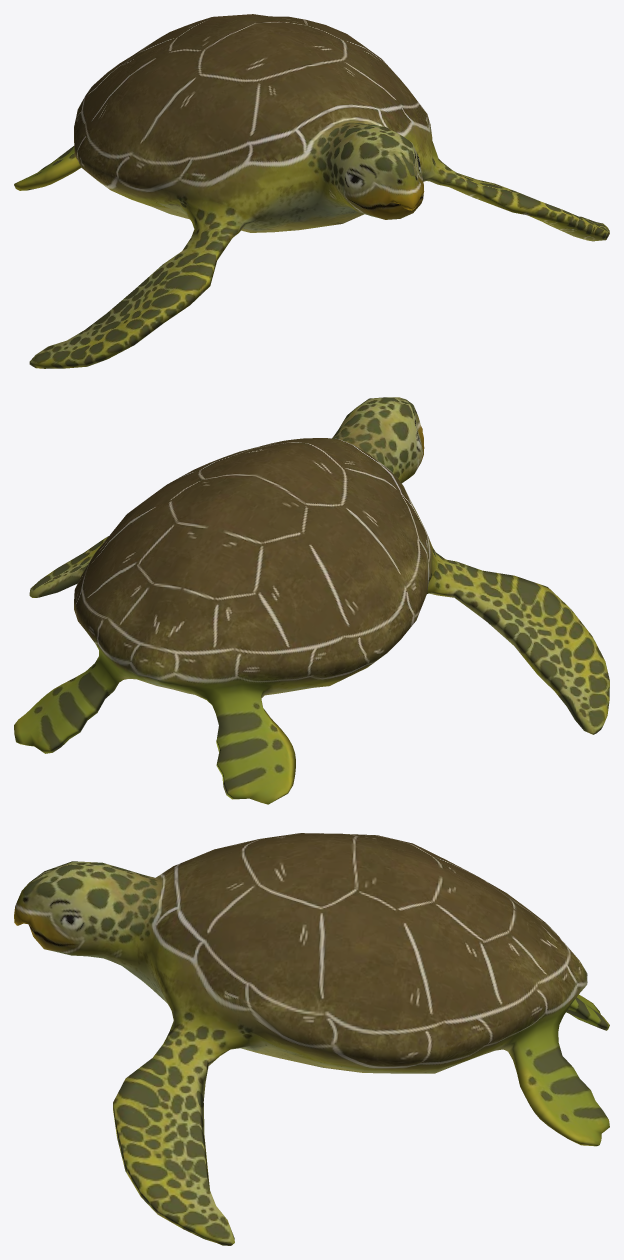
The model's file is Tortuga_PBR.glb.
3 views of the same model, one above another, from view 1: azimuth 30°, elevation 25°; view 2: azimuth 150°, elevation 25°; view 3: azimuth 270°, elevation 25° (orthographic). The views are drawn at different scales.
Visible parts, largest first — view 1: Tortuga_MAIN_Geo; view 2: Tortuga_MAIN_Geo; view 3: Tortuga_MAIN_Geo.
Boxes of the visible parts, x1,y1,x2,y2 form: Tortuga_MAIN_Geo: (14,14,609,368); Tortuga_MAIN_Geo: (14,397,609,804); Tortuga_MAIN_Geo: (14,833,609,1245).
Size of the model in its own units: 9.04 by 3.56 by 7.56.
Materials: 1 (1 with a texture image).
